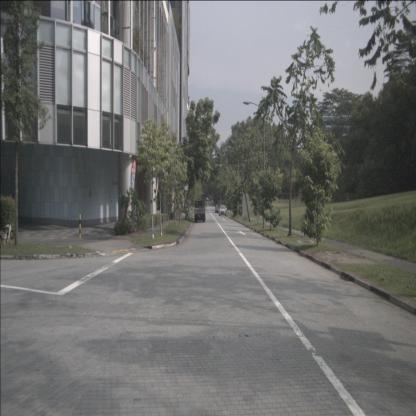human-pedestrian-adult: (185, 202, 189, 221), (259, 204, 262, 221)
vehicle-bicycle: (0, 218, 16, 248)
vehicle-car: (219, 205, 226, 216), (215, 204, 220, 213)
vehicle-truck: (194, 200, 206, 223)
